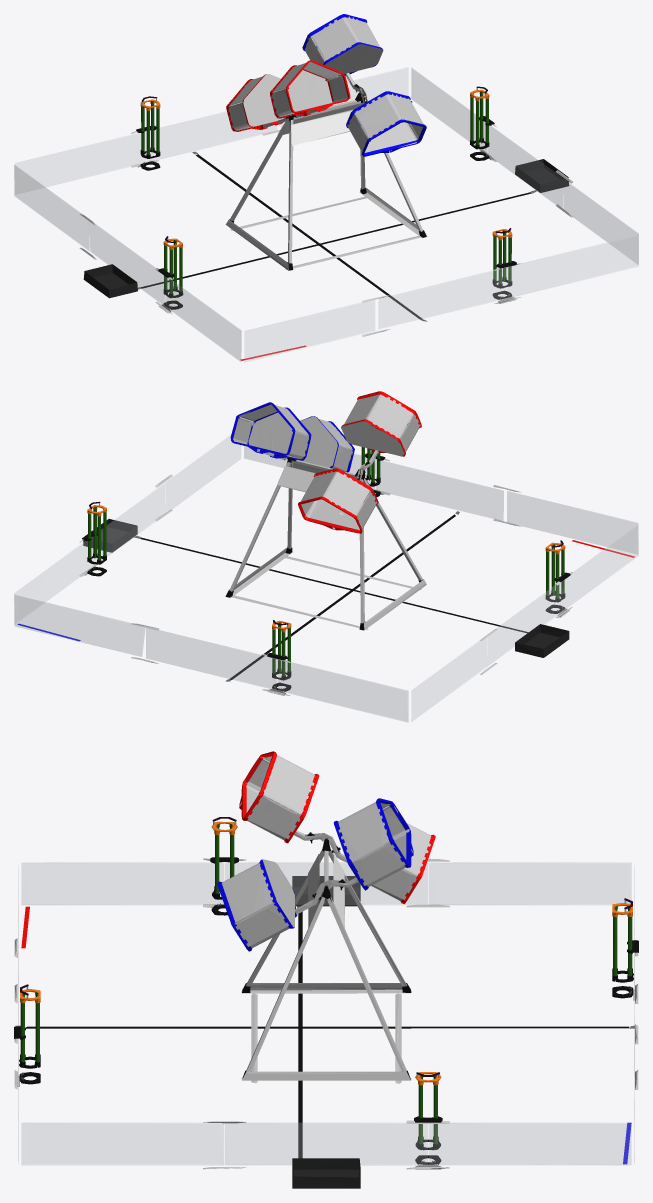
File: field.glb
3 views of the same model, one above another, from view 1: azimuth 30°, elevation 25°; view 2: azimuth 150°, elevation 25°; view 3: azimuth 270°, elevation 25° (orthographic). The views are drawn at different scales.
Parts seen in each view (by area): view 1: glass, hive_blue, frame, hive_red, misc, perimeter, flower_2, flower_3, flower_1, flower_4; view 2: glass, hive_red, hive_blue, frame, perimeter, misc, flower_3, flower_1, flower_4, flower_2; view 3: glass, hive_blue, frame, hive_red, perimeter, misc, flower_4, flower_2, flower_1, flower_3.
Boxes of the visible parts, x1,y1,x2,y2 form: glass: (14, 67, 638, 362); hive_blue: (302, 14, 426, 156); frame: (225, 93, 427, 270); hive_red: (226, 60, 350, 131); misc: (83, 159, 569, 298); perimeter: (79, 124, 572, 336); flower_2: (492, 228, 516, 303); flower_3: (158, 236, 183, 313); flower_1: (136, 96, 160, 170); flower_4: (470, 86, 494, 160); glass: (14, 435, 638, 722); hive_red: (298, 391, 421, 533); hive_blue: (230, 402, 354, 472); frame: (225, 457, 426, 630); perimeter: (79, 453, 572, 695); misc: (83, 519, 569, 657); flower_3: (545, 540, 570, 617); flower_1: (267, 620, 291, 695); flower_4: (82, 501, 106, 576); flower_2: (361, 447, 385, 496); glass: (18, 862, 634, 1165); hive_blue: (217, 798, 413, 951); frame: (241, 839, 411, 1083); hive_red: (239, 751, 435, 904); perimeter: (14, 858, 638, 1169); misc: (292, 876, 360, 1188); flower_4: (414, 1072, 442, 1169); flower_2: (14, 984, 40, 1086); flower_1: (612, 898, 638, 1000); flower_3: (210, 817, 238, 915).
Bounding box in the file's own units: 4.16 × 1.7 × 3.65.
